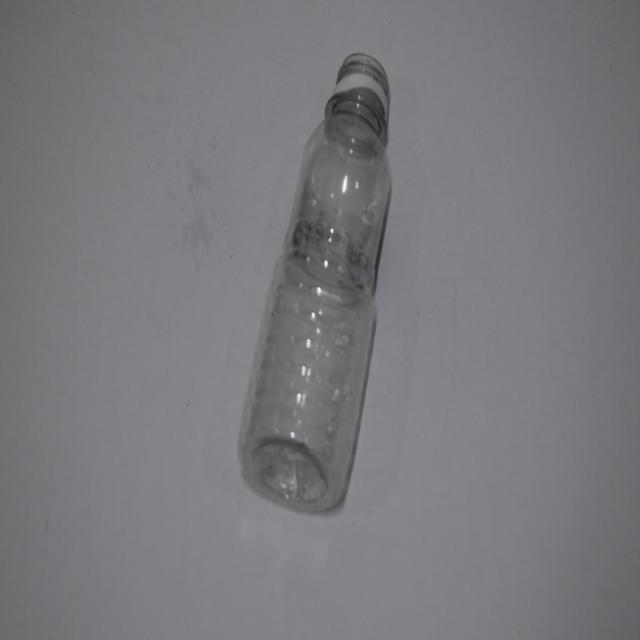bottle: (236, 48, 394, 515)
